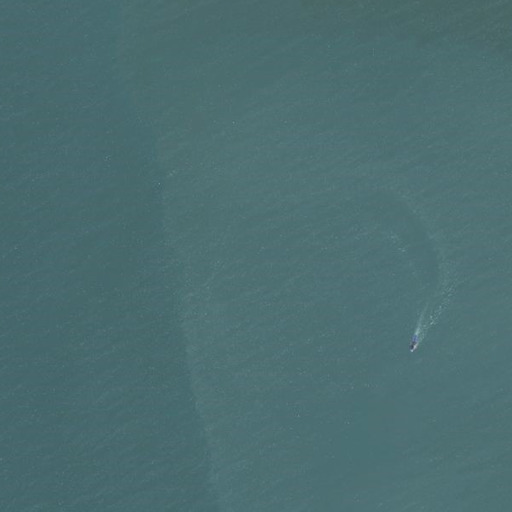ship: (406, 337, 422, 356)
